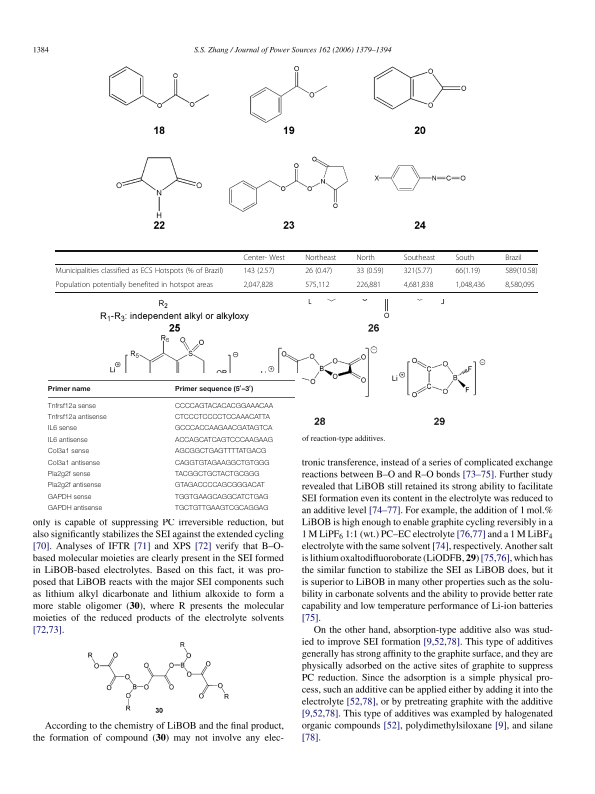borderless: (46, 378, 296, 513), (55, 249, 538, 292)
cell: (55, 266, 224, 276), (55, 280, 214, 290), (174, 402, 274, 411), (174, 436, 274, 445), (174, 413, 270, 422), (174, 504, 269, 513), (174, 447, 267, 456), (174, 425, 273, 433), (174, 470, 260, 479), (174, 459, 270, 467), (174, 493, 269, 501), (174, 482, 265, 490), (174, 385, 254, 393), (47, 413, 107, 422), (47, 504, 103, 513), (47, 402, 96, 411), (47, 482, 102, 490), (47, 459, 100, 467), (47, 470, 91, 479), (242, 253, 286, 262), (47, 447, 90, 456), (47, 436, 88, 445), (47, 493, 92, 501), (47, 385, 91, 393), (504, 266, 538, 276), (242, 266, 275, 276), (242, 280, 274, 290), (454, 280, 486, 290), (504, 280, 536, 290), (403, 280, 434, 290), (403, 266, 433, 276), (304, 253, 337, 262), (403, 253, 436, 262), (304, 266, 333, 276), (355, 266, 384, 276), (454, 266, 481, 276), (355, 280, 382, 290), (304, 280, 330, 290), (47, 425, 77, 433), (355, 253, 376, 262), (454, 253, 475, 262), (504, 253, 523, 262)
